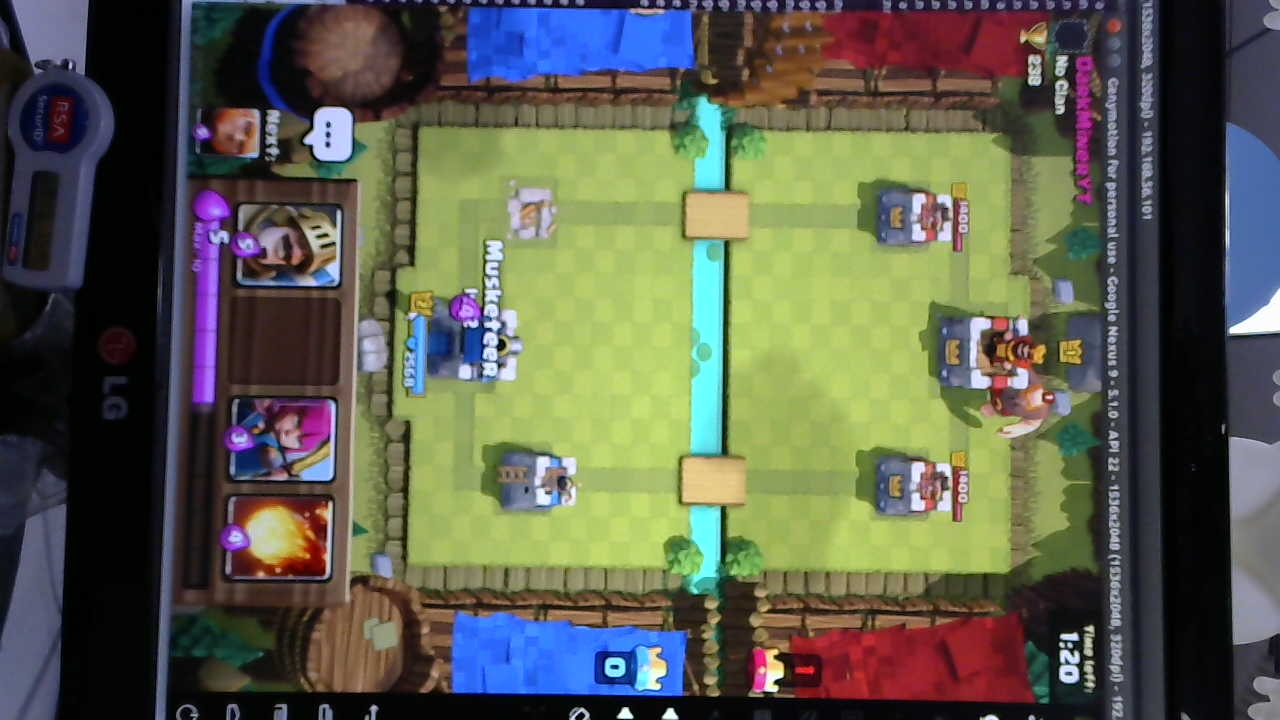arena: (500, 455, 579, 512)
darena: (503, 183, 558, 242)
earena: (873, 451, 957, 518), (873, 187, 955, 249)
eking: (933, 315, 1050, 393)
giant: (972, 367, 1053, 436)
king: (424, 306, 520, 386)
